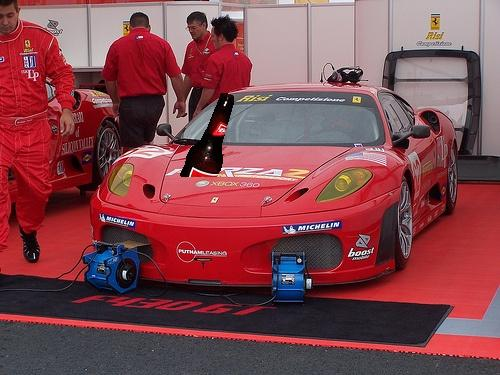tampered: (181, 94, 234, 177)
